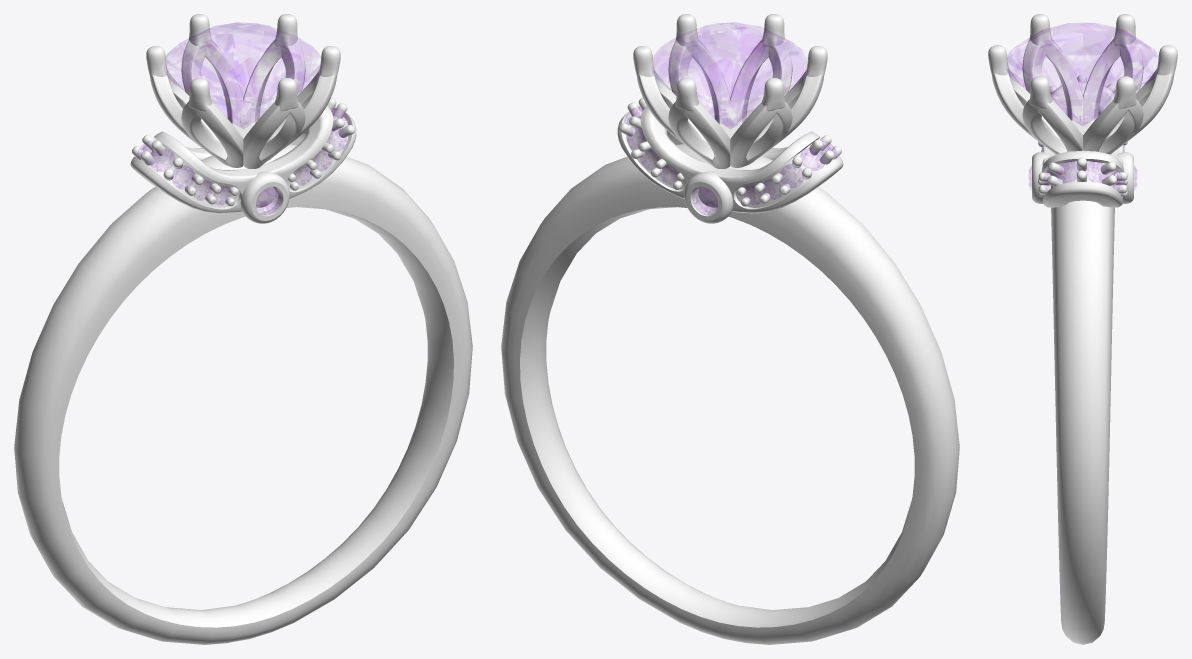
Rendered from ring.glb.
3 renders of one model, left to right at view 1: azimuth 30°, elevation 25°; view 2: azimuth 150°, elevation 25°; view 3: azimuth 270°, elevation 25°, orthographic. The views are drawn at different scales.
Parts seen in each view (by area): view 1: object 13, object 50, Round_19, object 52, object 2, object 11, object 5, object 8, object 6, object 7, object 3, object 10 (+6 smaller); view 2: object 13, object 50, Round_19, object 51, object 6, object 3, object 12, object 9, object 11, object 10, object 2, object 7 (+6 smaller); view 3: object 13, Round_19, object 50, object 10, object 7, object 1, object 4, object 2, object 3, object 6, object 11, object 8 (+11 smaller).
Boxes of the visible parts, bbox=[...] form: object 13: bbox=[14, 144, 472, 644]; object 50: bbox=[130, 106, 356, 213]; Round_19: bbox=[165, 22, 321, 128]; object 52: bbox=[240, 171, 289, 223]; object 2: bbox=[240, 39, 281, 125]; object 11: bbox=[205, 39, 246, 124]; object 5: bbox=[243, 102, 290, 168]; object 8: bbox=[196, 102, 243, 167]; object 6: bbox=[257, 101, 305, 168]; object 7: bbox=[181, 101, 228, 165]; object 3: bbox=[266, 75, 336, 160]; object 10: bbox=[150, 75, 220, 157]; object 13: bbox=[501, 144, 959, 644]; object 50: bbox=[617, 106, 843, 213]; Round_19: bbox=[652, 23, 808, 128]; object 51: bbox=[684, 171, 733, 223]; object 6: bbox=[727, 39, 768, 124]; object 3: bbox=[692, 39, 733, 124]; object 12: bbox=[683, 102, 730, 168]; object 9: bbox=[730, 102, 777, 167]; object 11: bbox=[668, 101, 716, 168]; object 10: bbox=[745, 101, 792, 165]; object 2: bbox=[637, 75, 707, 160]; object 7: bbox=[753, 75, 823, 157]; object 13: bbox=[1051, 200, 1114, 644]; Round_19: bbox=[1006, 23, 1158, 125]; object 50: bbox=[1041, 81, 1124, 207]; object 10: bbox=[1080, 39, 1120, 122]; object 7: bbox=[1045, 39, 1085, 121]; object 1: bbox=[1083, 100, 1128, 151]; object 4: bbox=[1037, 100, 1082, 151]; object 2: bbox=[1099, 99, 1143, 154]; object 3: bbox=[1022, 99, 1066, 154]; object 6: bbox=[992, 73, 1061, 154]; object 11: bbox=[1104, 73, 1173, 154]; object 8: bbox=[1022, 39, 1045, 93].
Size of the model in its own units: 2.2 by 2.77 by 0.8204.
3 materials, 1 textured.
